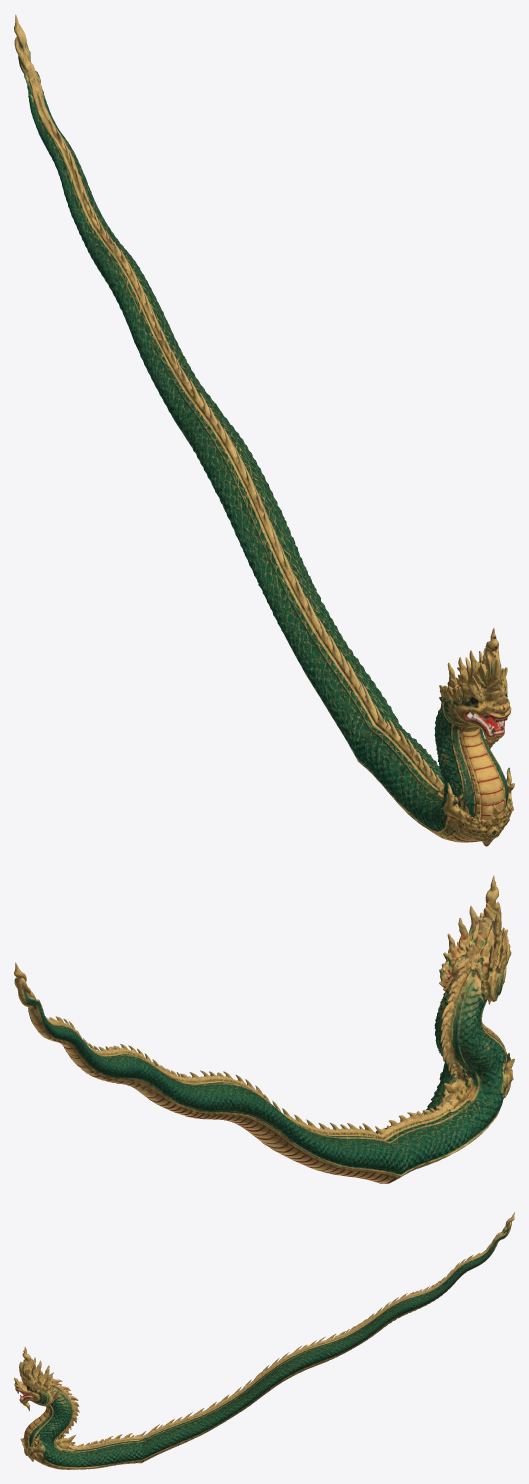
File: naga.glb
The picture shows the model from 3 angles, top to bottom: view 1: azimuth 30°, elevation 25°; view 2: azimuth 150°, elevation 25°; view 3: azimuth 270°, elevation 25°; orthographic projection. The views are drawn at different scales.
Bounding box in the file's own units: 0.1442 × 1.06 × 1.9.
1 material, 1 textured.
